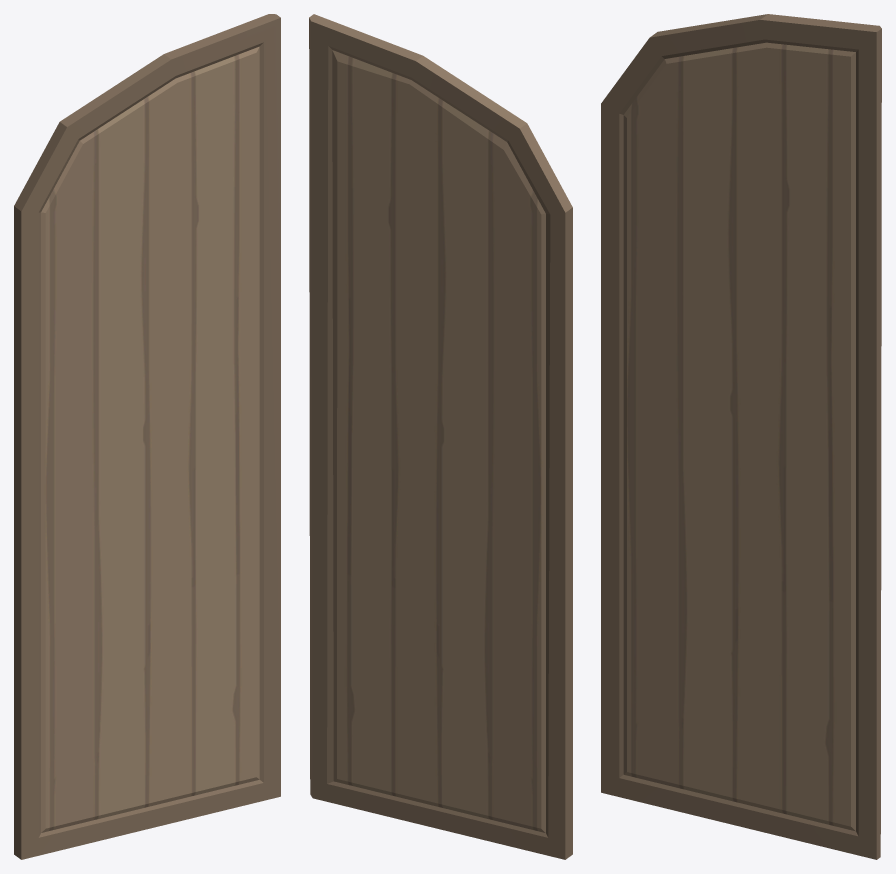
The model's file is SM_Veh_Food_Trailer_01_Door_2.obj.
3 renders of one model, left to right at view 1: azimuth 30°, elevation 25°; view 2: azimuth 150°, elevation 25°; view 3: azimuth 330°, elevation 25°, orthographic. The views are drawn at different scales.
Visible parts, largest first — view 1: SM_Veh_Food_Trailer_01_Door_2_0; view 2: SM_Veh_Food_Trailer_01_Door_2_0; view 3: SM_Veh_Food_Trailer_01_Door_2_0.
Part boxes in pixels (x1,y1,x2,y2): SM_Veh_Food_Trailer_01_Door_2_0: (14, 14, 280, 859); SM_Veh_Food_Trailer_01_Door_2_0: (309, 14, 572, 859); SM_Veh_Food_Trailer_01_Door_2_0: (601, 14, 881, 859).
Bounding box in the file's own units: 0.8018 × 2.3 × 0.04.
Materials: 1 (1 with a texture image).
